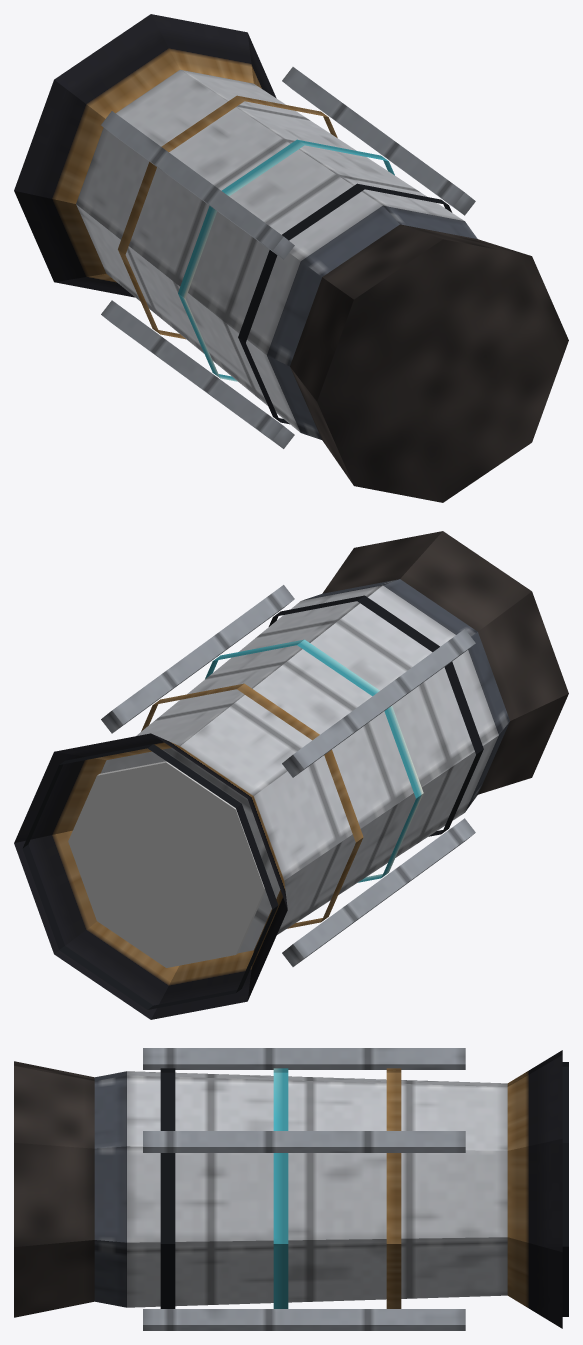
Rendered from ship_heavy_nacelle.obj.
3 renders of one model, top to bottom at view 1: azimuth 30°, elevation 25°; view 2: azimuth 150°, elevation 25°; view 3: azimuth 270°, elevation 25°, orthographic. The views are drawn at different scales.
Parts seen in each view (by area): view 1: mount, body, bell, pumps, bands, intake; view 2: body, exhaust, bell, mount, pumps, bands, glow, intake; view 3: body, pumps, mount, bell, bands, intake, glow.
Part boxes in pixels (<box>): mount: <box>290,224,568,502</box>; body: <box>76,69,463,432</box>; bell: <box>14,14,276,297</box>; pumps: <box>101,67,475,448</box>; bands: <box>118,95,452,424</box>; intake: <box>267,205,477,439</box>; body: <box>100,585,498,953</box>; exhaust: <box>68,761,265,967</box>; bell: <box>14,733,287,1019</box>; mount: <box>322,531,568,794</box>; pumps: <box>101,585,475,966</box>; bands: <box>141,595,483,928</box>; glow: <box>22,744,278,1009</box>; intake: <box>302,579,509,811</box>; body: <box>127,1071,507,1307</box>; pumps: <box>143,1048,465,1330</box>; mount: <box>14,1061,94,1317</box>; bell: <box>507,1050,562,1328</box>; bands: <box>160,1068,401,1308</box>; intake: <box>94,1071,126,1307</box>; glow: <box>562,1062,568,1316</box>.
Bounding box in the file's own units: 1.84 × 1.84 × 3.44.
